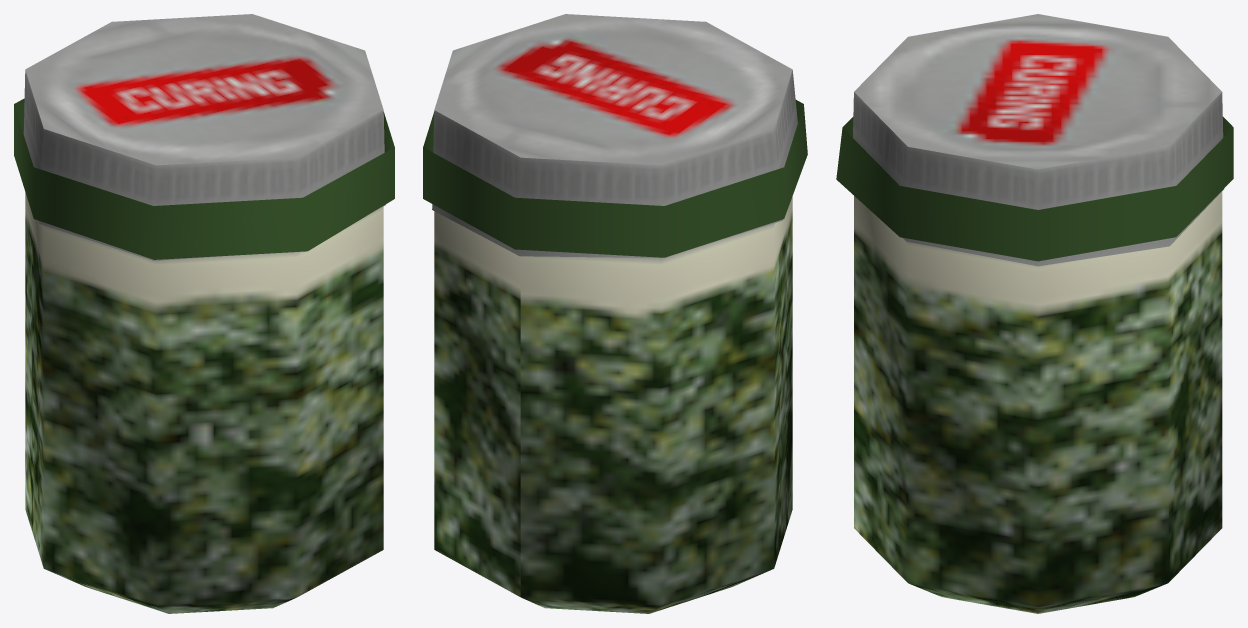
The model's file is WeedFullJar.fbx.
3 renders of one model, left to right at view 1: azimuth 30°, elevation 25°; view 2: azimuth 150°, elevation 25°; view 3: azimuth 270°, elevation 25°, orthographic.
Visible parts, largest first — view 1: JarFood; view 2: JarFood; view 3: JarFood.
Boxes of the visible parts, box(x1,y1,x2,y2) form: JarFood: box(14, 14, 394, 613); JarFood: box(423, 14, 807, 613); JarFood: box(836, 14, 1233, 613).
Bounding box in the file's own units: 0.0961 × 0.126 × 0.0976.
